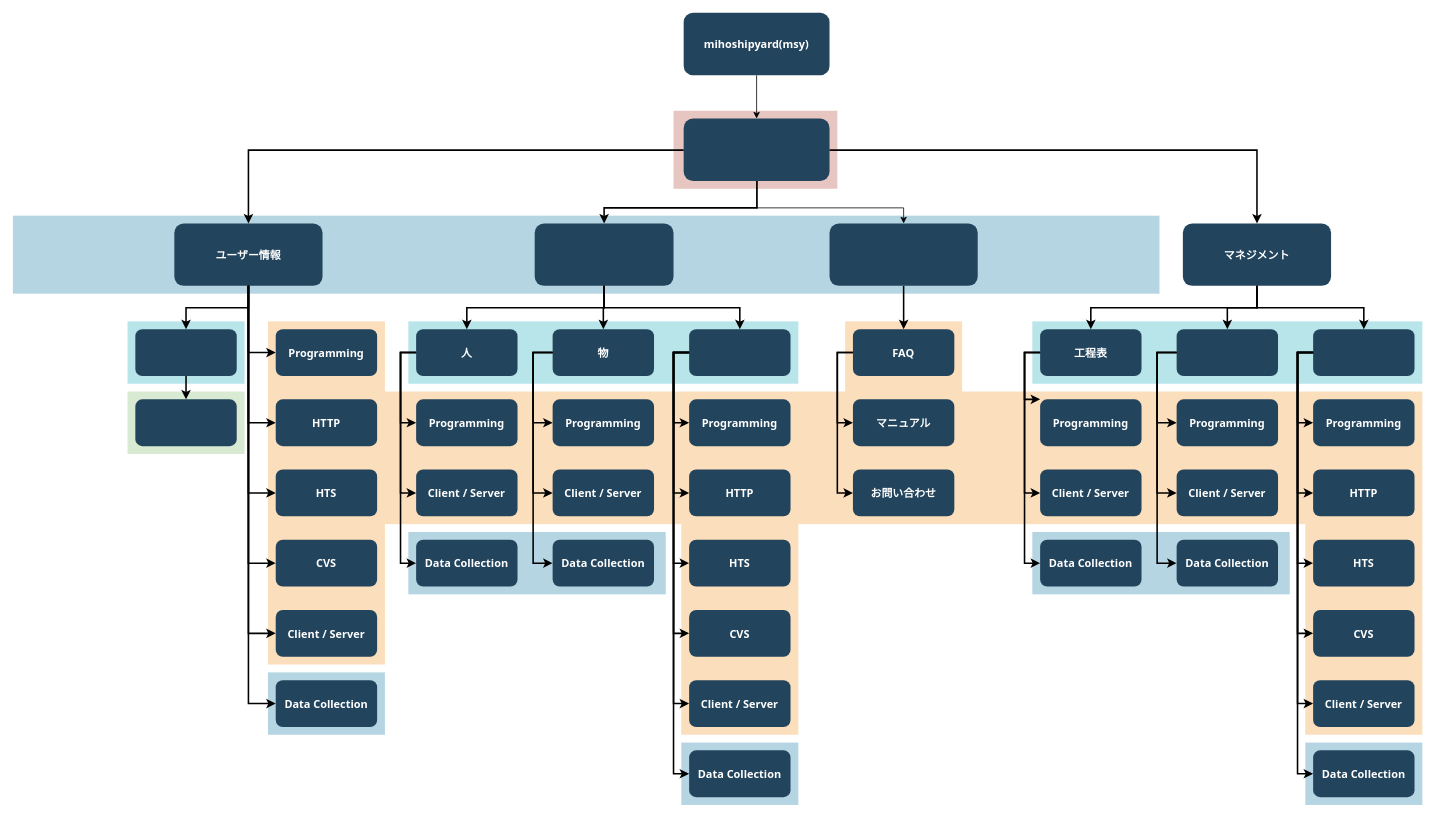
This 1435x817 diagram has some shape labels left out. The box of each missing label's shape, as (x1, y1, x2, y2) in pixels:
msyについて: (829, 223, 977, 285)
top: (683, 118, 829, 181)
XMI: (1313, 329, 1414, 376)
サーチ: (534, 223, 673, 285)
情報: (689, 329, 790, 376)
新規登録: (135, 329, 236, 376)
